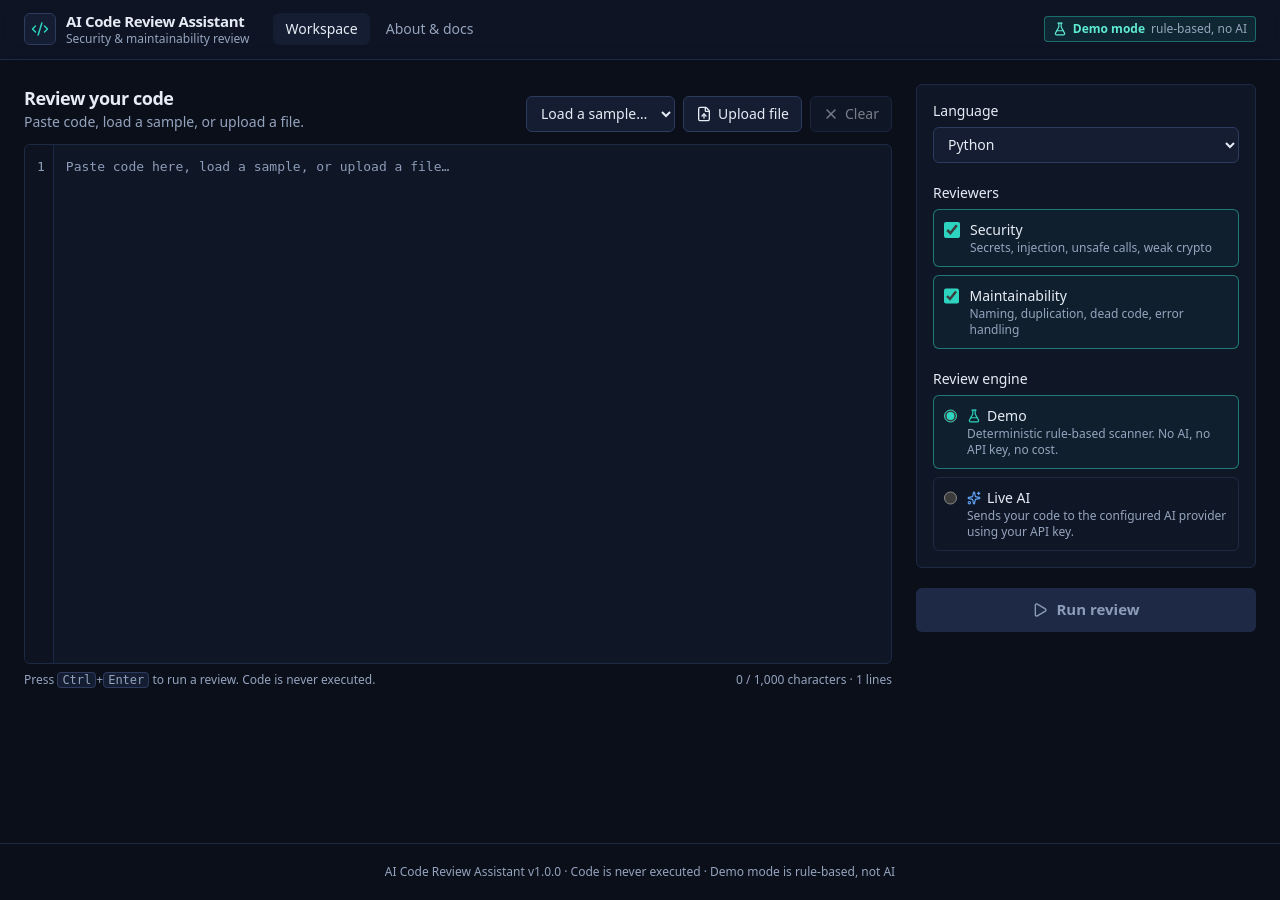
review flow › renders an honest empty state when nothing was found
Type "x = 1" into the text box named "Code to review" at (472, 404), box [54,145,891,663]
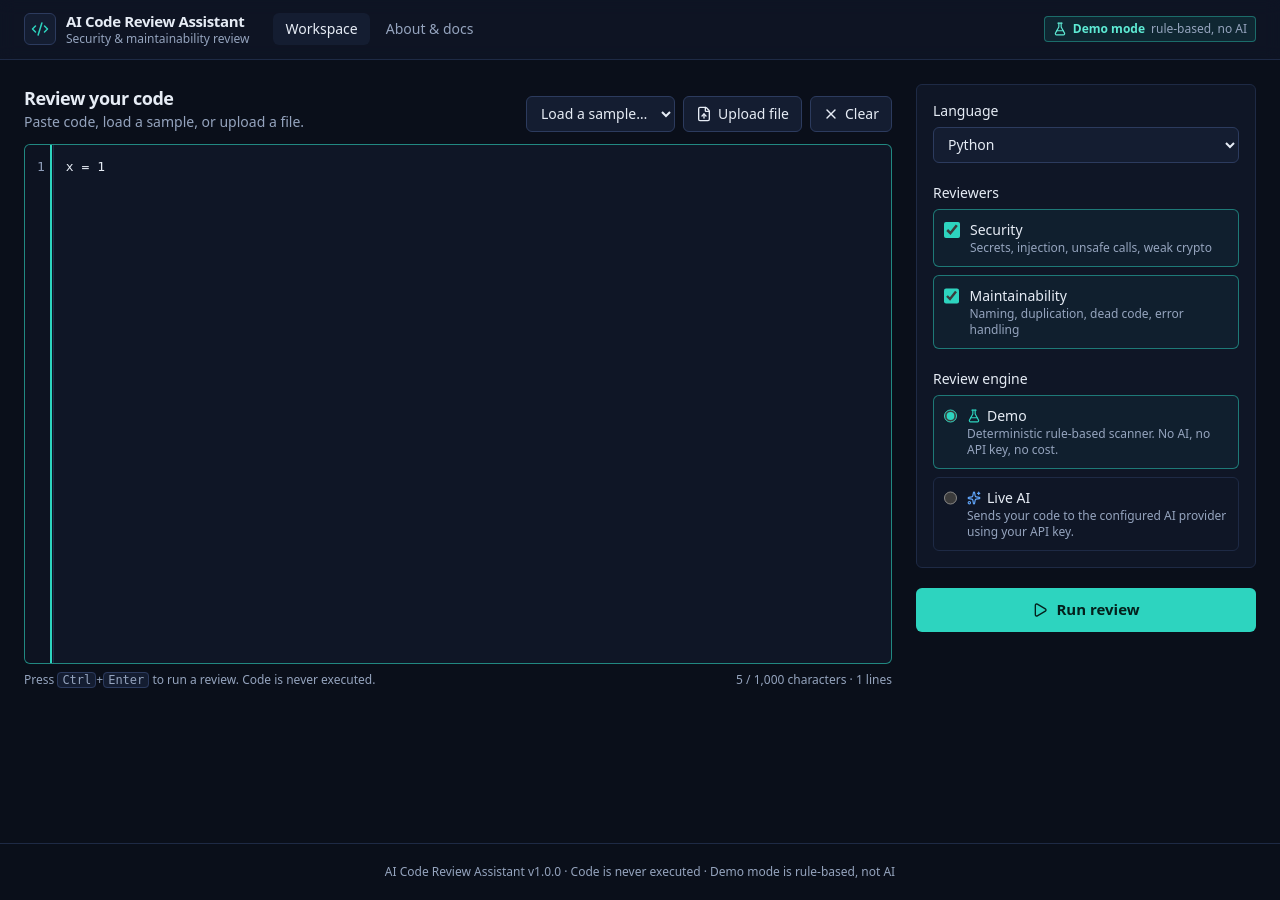
Click the button "Run review" at (1086, 610), box [916,588,1256,632]
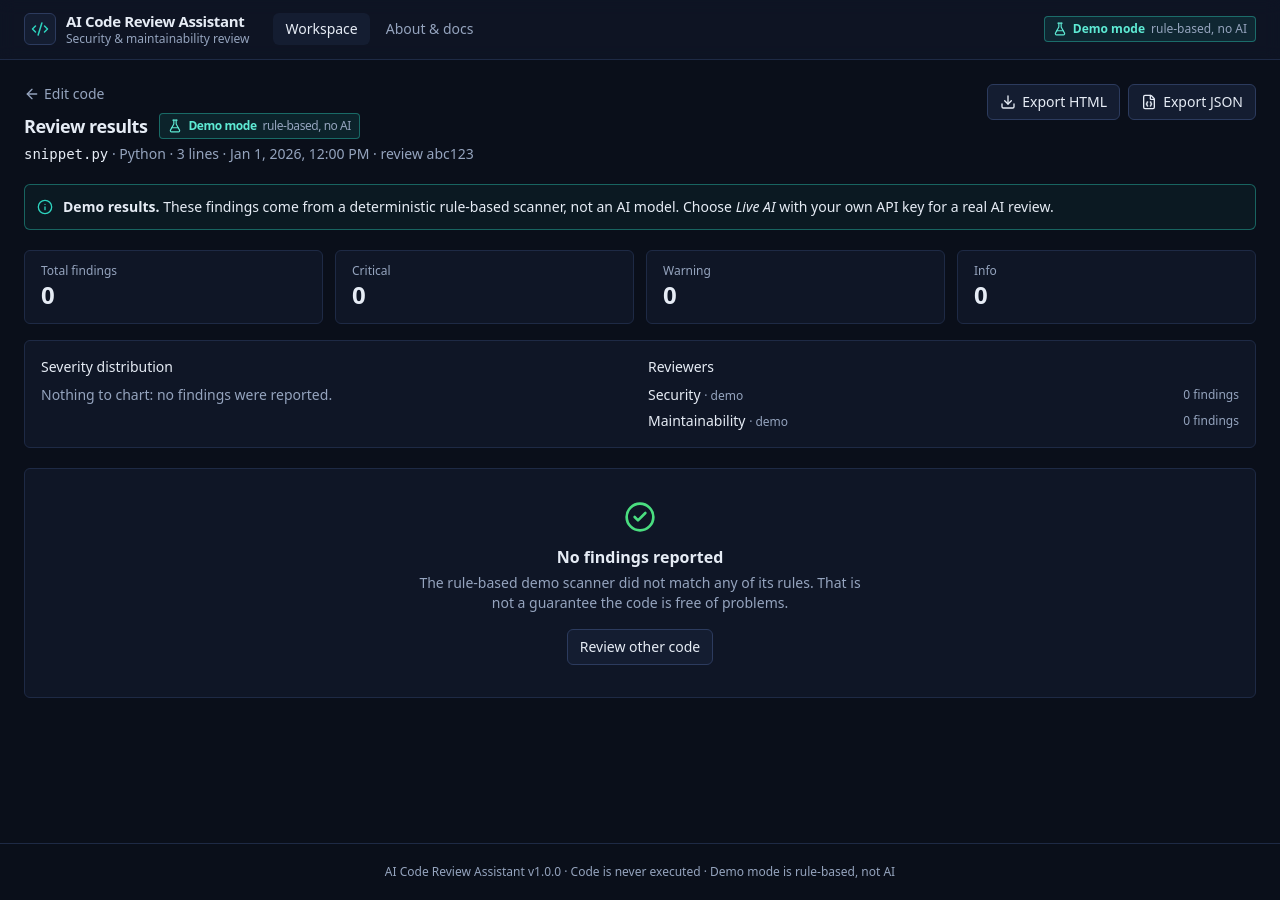
Check: the heading "Review results Demo mode rule-based, no AI" is shown, box [24,113,360,139]
Check: the heading "No findings reported" is shown, box [557,546,723,568]
Check: the text "not a guarantee" is shown, box [419,573,861,612]
